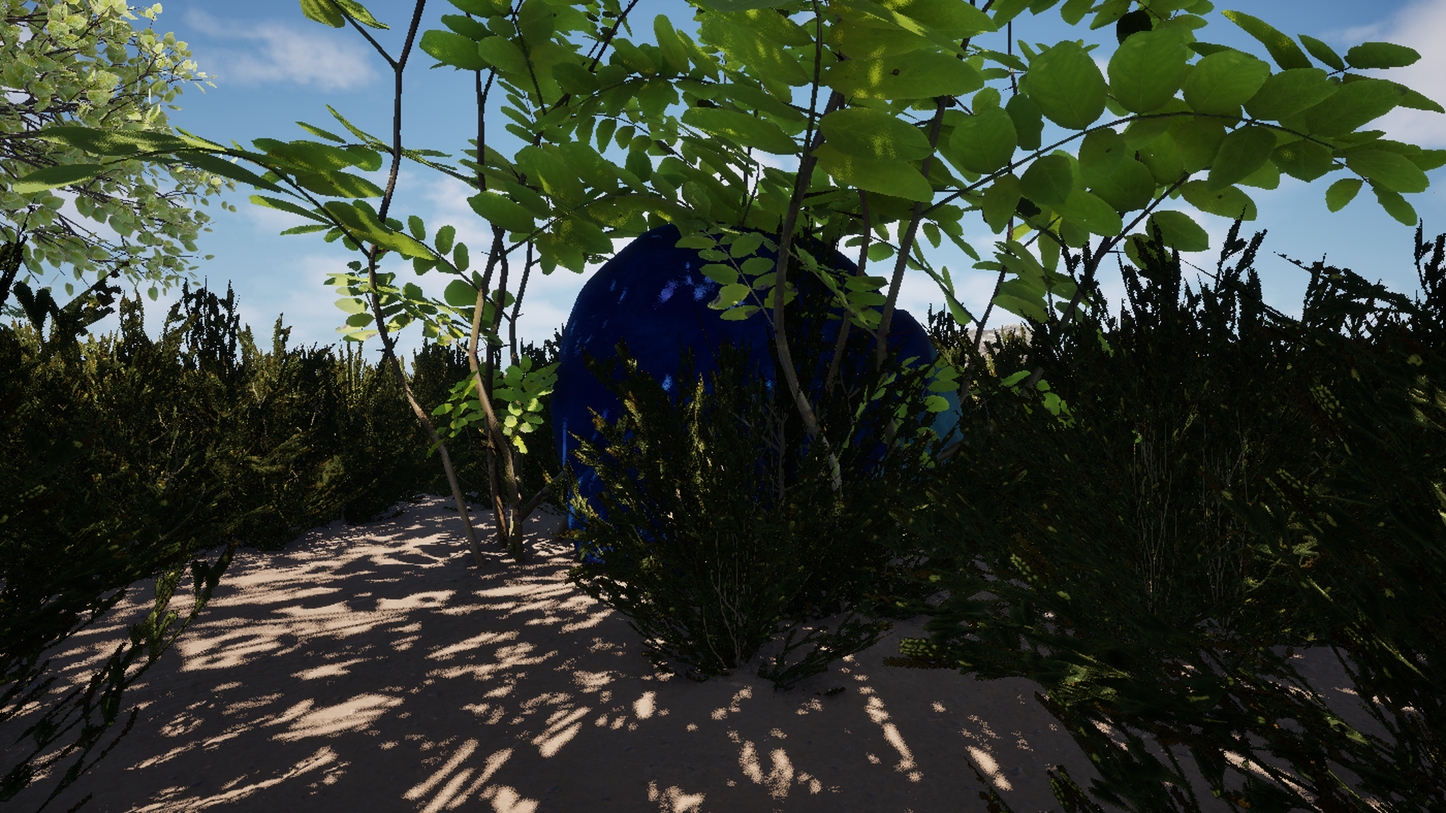Piplup: (350, 0, 1071, 813)
